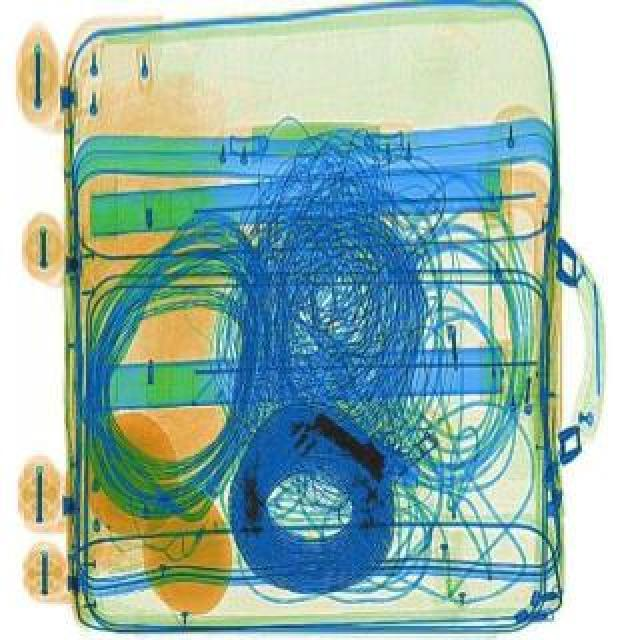gun: (296, 386, 440, 492)
